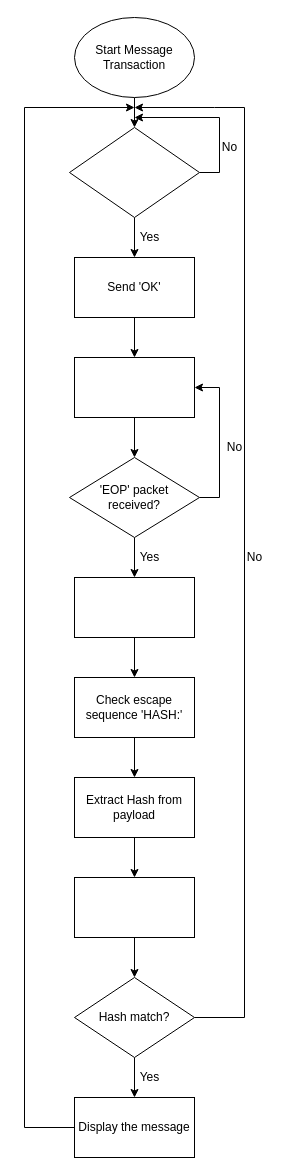
Image size: 287x1175. Some labels were removed from this diagram. Each missing label, with the centre of its shape:
'AT' Command received from Sender?: point 134,172
Compute hash of the message: point 134,907
Decrypt payload using AES: point 134,607
Receive AES encrypted payload: point 134,387
